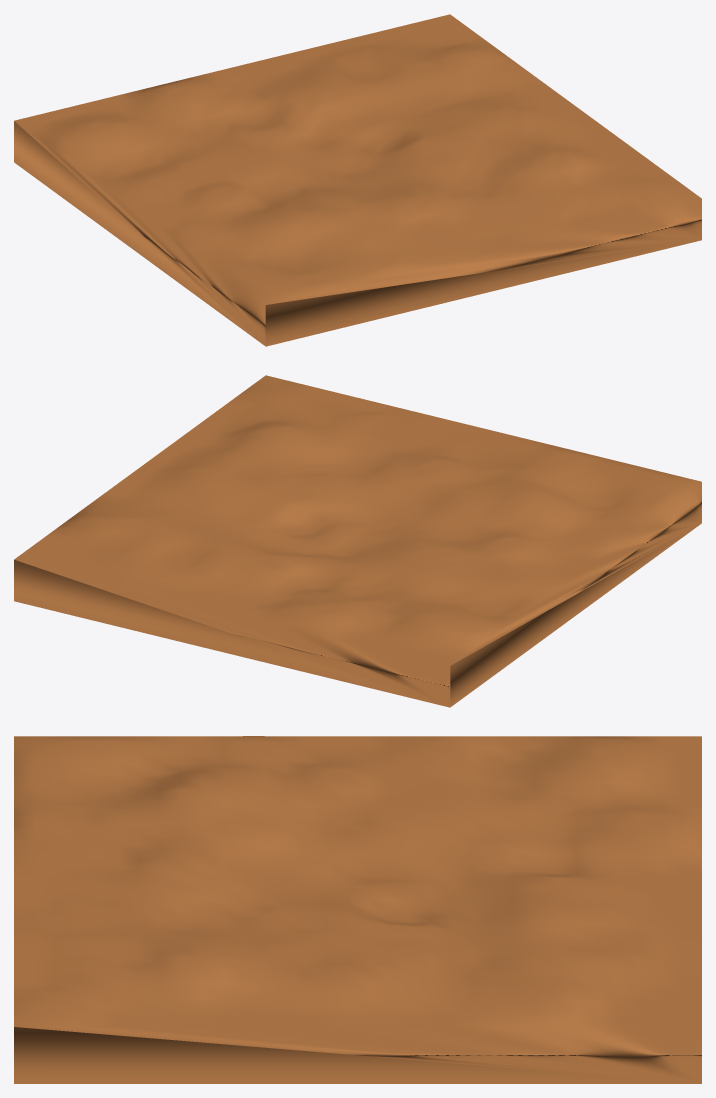
File: Ground_2.fbx
3 views of the same model, one above another, from view 1: azimuth 30°, elevation 25°; view 2: azimuth 150°, elevation 25°; view 3: azimuth 270°, elevation 25° (orthographic). The views are drawn at different scales.
Visible parts, largest first — view 1: ground_2; view 2: ground_2; view 3: ground_2.
Boxes of the visible parts, x1,y1,x2,y2 form: ground_2: (14,14,701,346); ground_2: (14,375,701,707); ground_2: (14,736,701,1083).
Size of the model in its own units: 17178 by 2066 by 17176.
